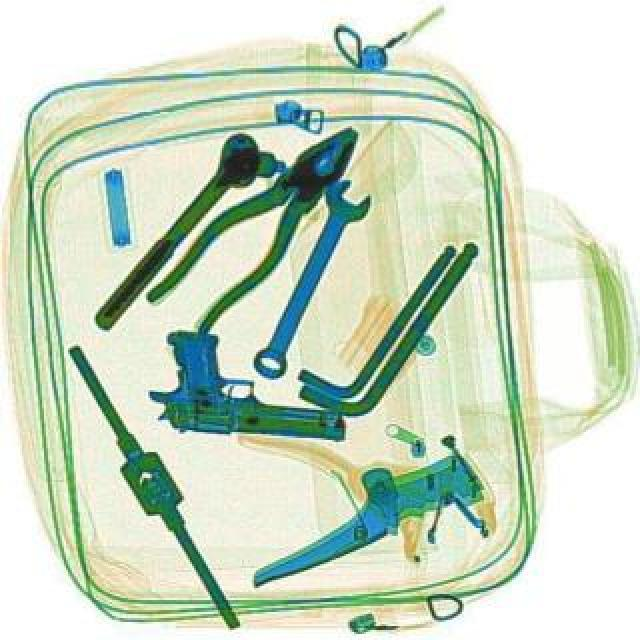gun: (144, 328, 350, 442)
scissors: (246, 170, 374, 384)
wrench: (138, 106, 386, 344)
